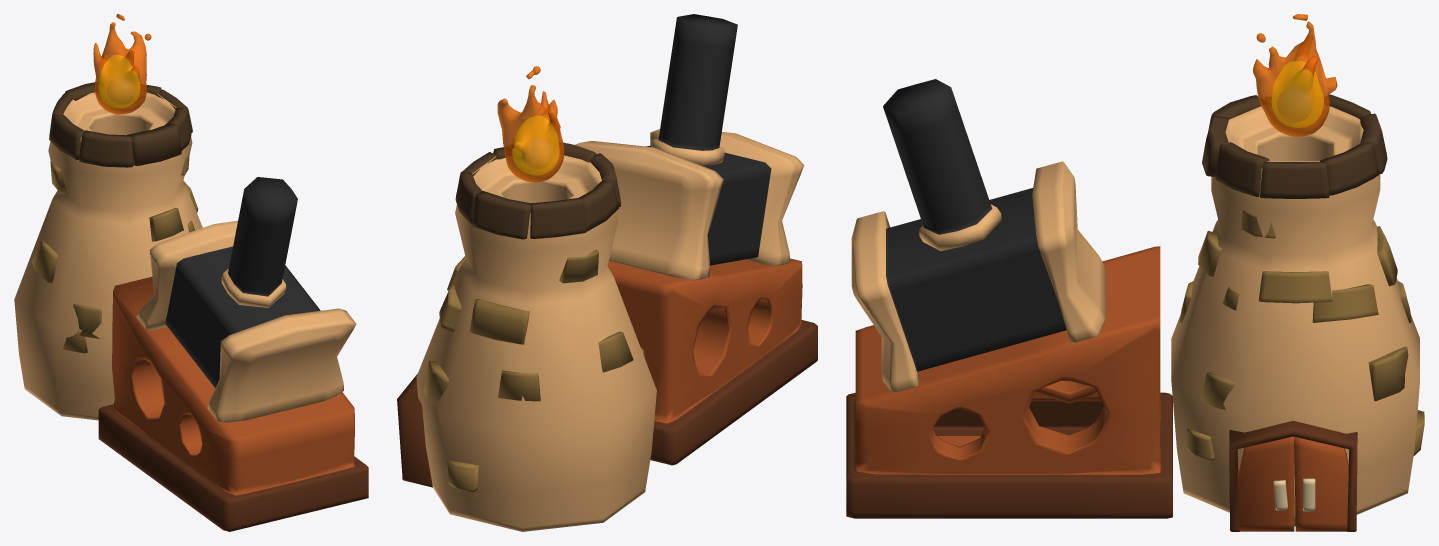
The model's file is blacksmith.fbx.
3 renders of one model, left to right at view 1: azimuth 30°, elevation 25°; view 2: azimuth 150°, elevation 25°; view 3: azimuth 270°, elevation 25°, orthographic. The views are drawn at different scales.
Parts seen in each view (by area): view 1: house_base.001, base_tower, hammer, handle, fire, Cylinder.015, fire_outer, Cylinder.012, Cylinder.016, Cylinder.021, Cylinder.027, Cylinder.026 (+1 smaller); view 2: base_tower, house_base.001, hammer, handle, fire, door.002, fire_outer, Cylinder.014, Cylinder.010, Cylinder.024, Cylinder.016, Cylinder.023 (+7 smaller); view 3: house_base.001, base_tower, hammer, handle, fire, door_L, door_R, door.002, fire_outer, bricks_top, bricks_body, Cylinder.002 (+8 smaller).
Part boxes in pixels (x1,y1,x2,y2): house_base.001: (98, 276, 368, 531); base_tower: (14, 92, 202, 420); hammer: (136, 220, 356, 422); handle: (221, 177, 297, 308); fire: (93, 14, 151, 114); Cylinder.015: (79, 130, 133, 167); fire_outer: (98, 55, 139, 107); Cylinder.012: (127, 123, 181, 165); Cylinder.016: (49, 115, 84, 159); Cylinder.021: (149, 208, 183, 241); Cylinder.027: (31, 240, 58, 283); Cylinder.026: (73, 303, 101, 338); base_tower: (416, 155, 656, 531); house_base.001: (607, 258, 817, 465); hammer: (575, 129, 804, 280); handle: (651, 14, 737, 165); fire: (497, 66, 564, 182); door.002: (397, 373, 432, 487); fire_outer: (512, 116, 559, 175); Cylinder.014: (472, 191, 530, 239); Cylinder.010: (530, 198, 586, 238); Cylinder.024: (469, 299, 529, 344); Cylinder.016: (579, 181, 618, 231); Cylinder.023: (498, 370, 540, 401); house_base.001: (846, 246, 1172, 518); base_tower: (1171, 106, 1419, 519); hammer: (851, 161, 1105, 393); handle: (883, 79, 1001, 251); fire: (1253, 14, 1337, 136); door_L: (1238, 436, 1294, 531); door_R: (1294, 436, 1348, 531); door.002: (1229, 420, 1357, 531); fire_outer: (1272, 61, 1323, 127); bricks_top: (1260, 161, 1329, 198); bricks_body: (1258, 271, 1332, 303); Cylinder.002: (1320, 143, 1378, 195).
Bounding box in the file's own units: 366 × 688 × 782.
